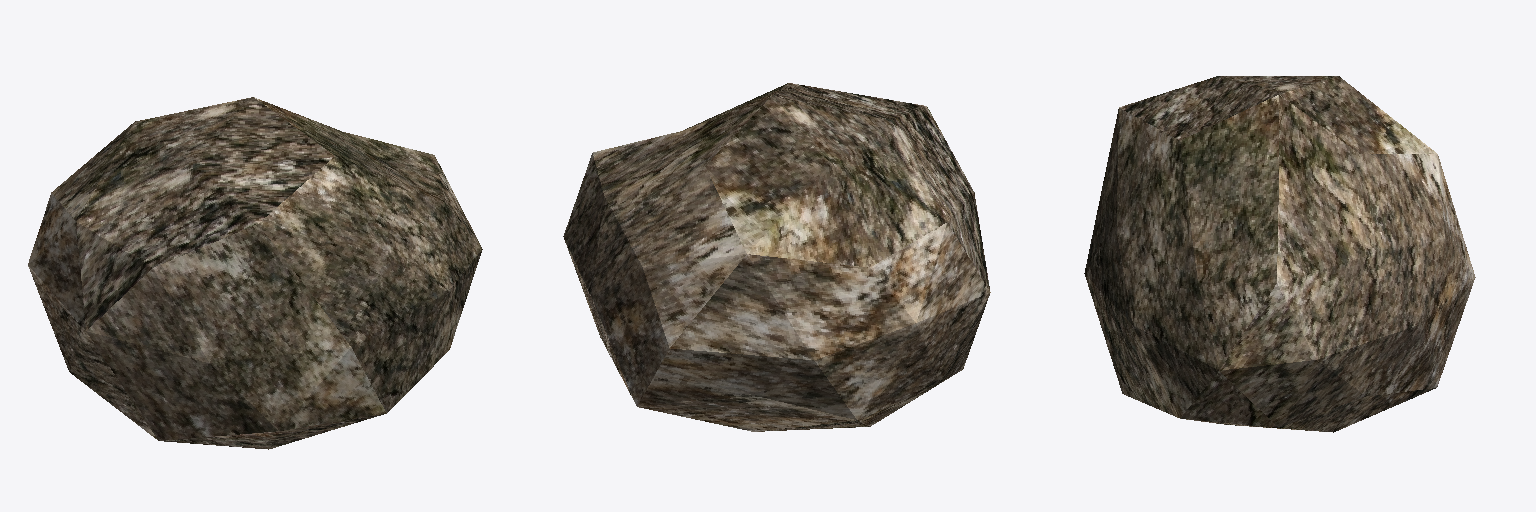
3 views of the same model, side by side, from view 1: azimuth 30°, elevation 25°; view 2: azimuth 150°, elevation 25°; view 3: azimuth 270°, elevation 25° (orthographic).
Visible parts, largest first — view 1: Icosphere.002; view 2: Icosphere.002; view 3: Icosphere.002.
Part boxes in pixels (left/top/right/bottom): Icosphere.002: left=28, top=97, right=482, bottom=449; Icosphere.002: left=563, top=83, right=990, bottom=431; Icosphere.002: left=1084, top=76, right=1475, bottom=432.
Bounding box in the file's own units: 1.03 × 0.8 × 0.8862.
Materials: 1 (1 with a texture image).